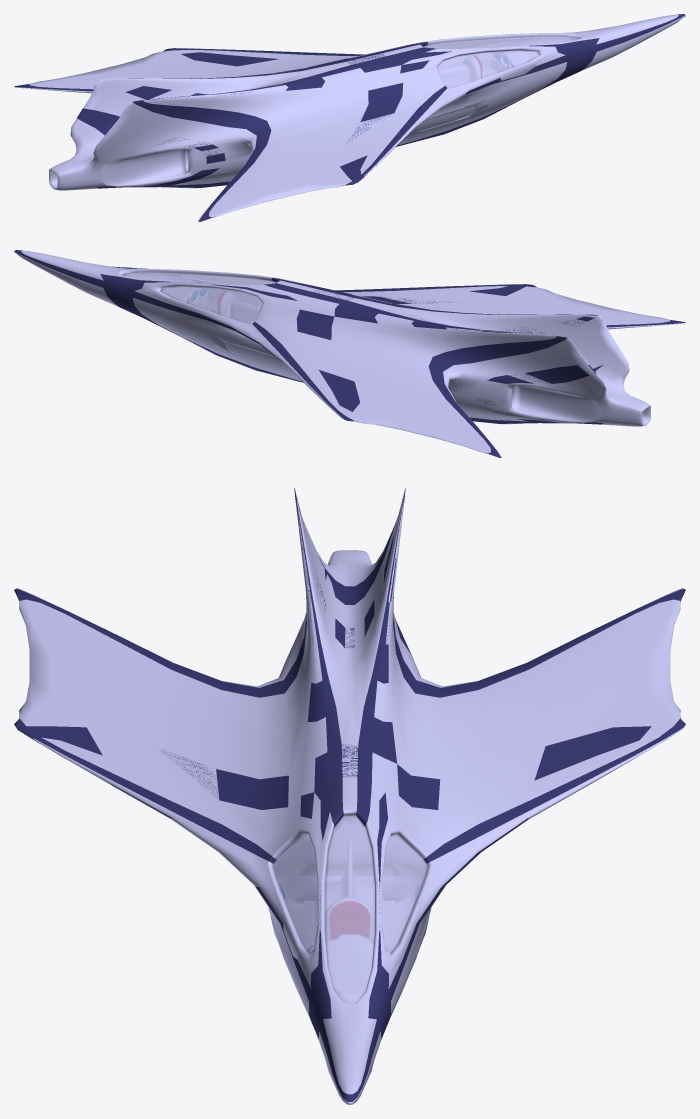
3 renders of one model, top to bottom at view 1: azimuth 30°, elevation 25°; view 2: azimuth 150°, elevation 25°; view 3: azimuth 270°, elevation 25°, orthographic. The views are drawn at different scales.
Visible parts, largest first — view 1: gl1_sep47, gl1_sep39, gl1_sep42; view 2: gl1_sep47, gl1_sep39, gl1_sep42; view 3: gl1_sep47, gl1_sep39, gl1_sep42, gl1_sep43.
Boxes of the visible parts, x1,y1,x2,y2 form: gl1_sep47: (14,14,685,221); gl1_sep39: (423,36,577,88); gl1_sep42: (439,56,486,87); gl1_sep47: (14,250,685,457); gl1_sep39: (122,272,276,324); gl1_sep42: (213,292,260,323); gl1_sep47: (14,487,685,1104); gl1_sep39: (272,815,427,1002); gl1_sep42: (315,840,384,939); gl1_sep43: (330,902,369,938).
Bounding box in the file's own units: 24.54 × 4.49 × 12.48.
